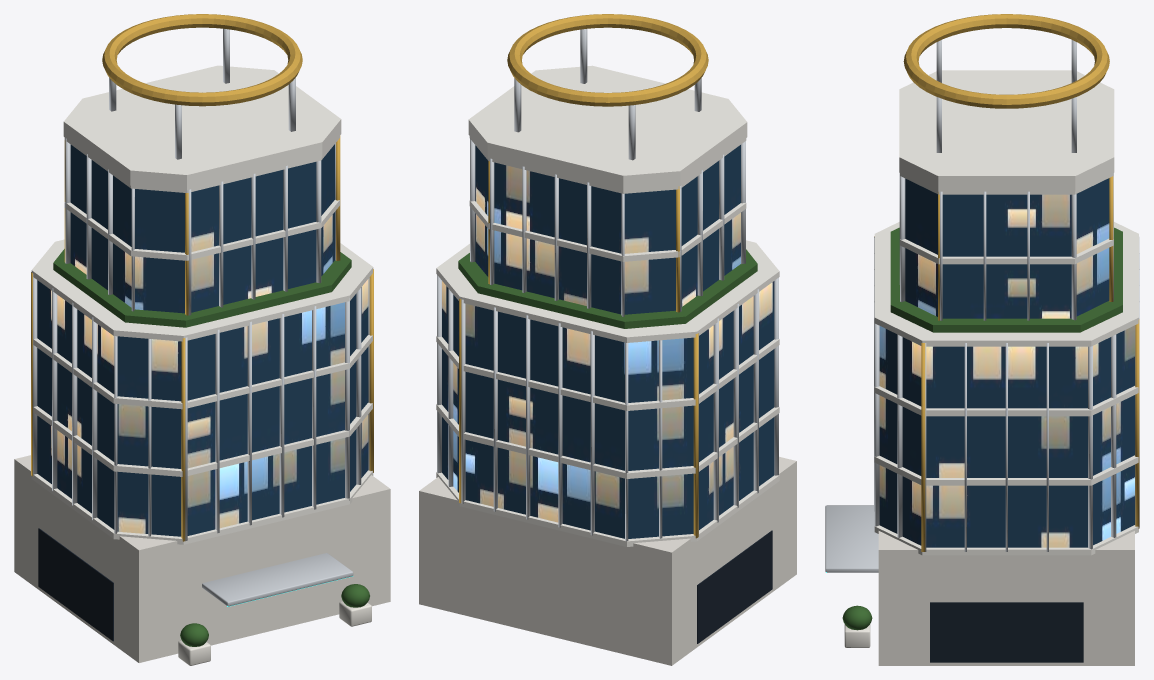
Rendered from nexus-civic-a.glb.
3 renders of one model, left to right at view 1: azimuth 30°, elevation 25°; view 2: azimuth 150°, elevation 25°; view 3: azimuth 270°, elevation 25°, orthographic. The views are drawn at different scales.
Parts seen in each view (by area): view 1: Building; view 2: Building; view 3: Building.
Boxes of the visible parts, x1=… form: Building: x1=14, y1=14, x2=390, y2=665; Building: x1=419, y1=14, x2=796, y2=665; Building: x1=825, y1=14, x2=1139, y2=665.
Size of the model in its own units: 14.46 by 28.35 by 14.72.
